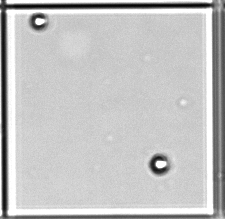Living Cell: (150, 154, 170, 175), (29, 13, 49, 29)
